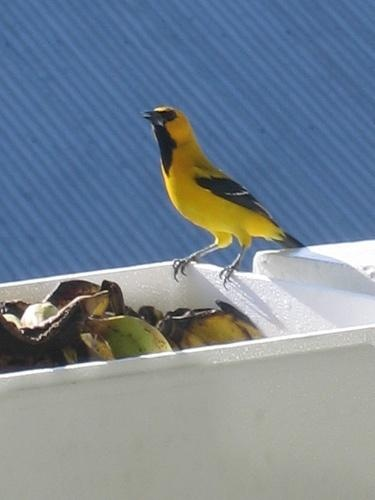bird: (141, 104, 305, 284)
